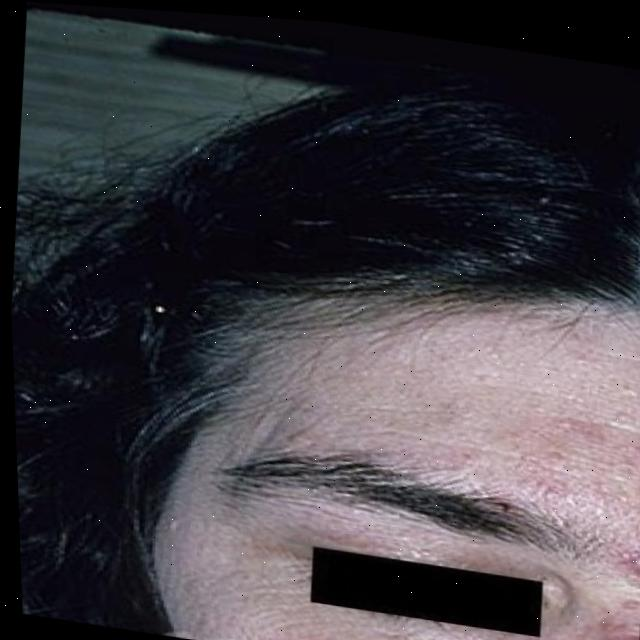Rosacea: (371, 394, 640, 513), (283, 611, 552, 640), (577, 593, 640, 640)
